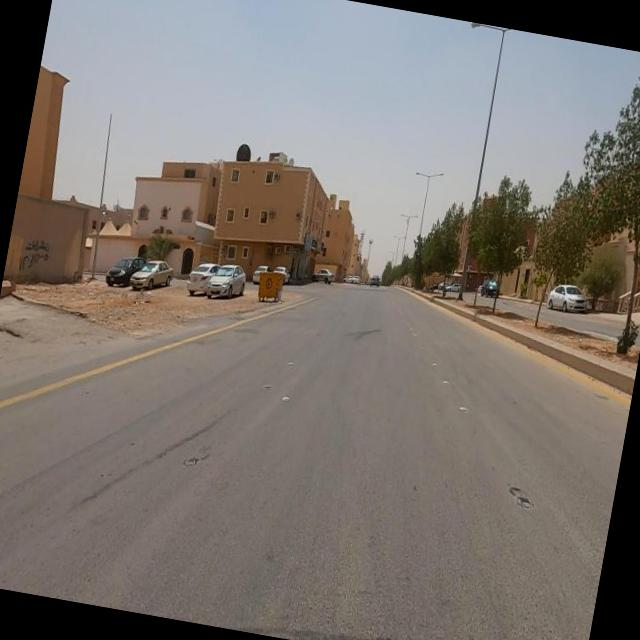debris: (0, 178, 94, 333)
